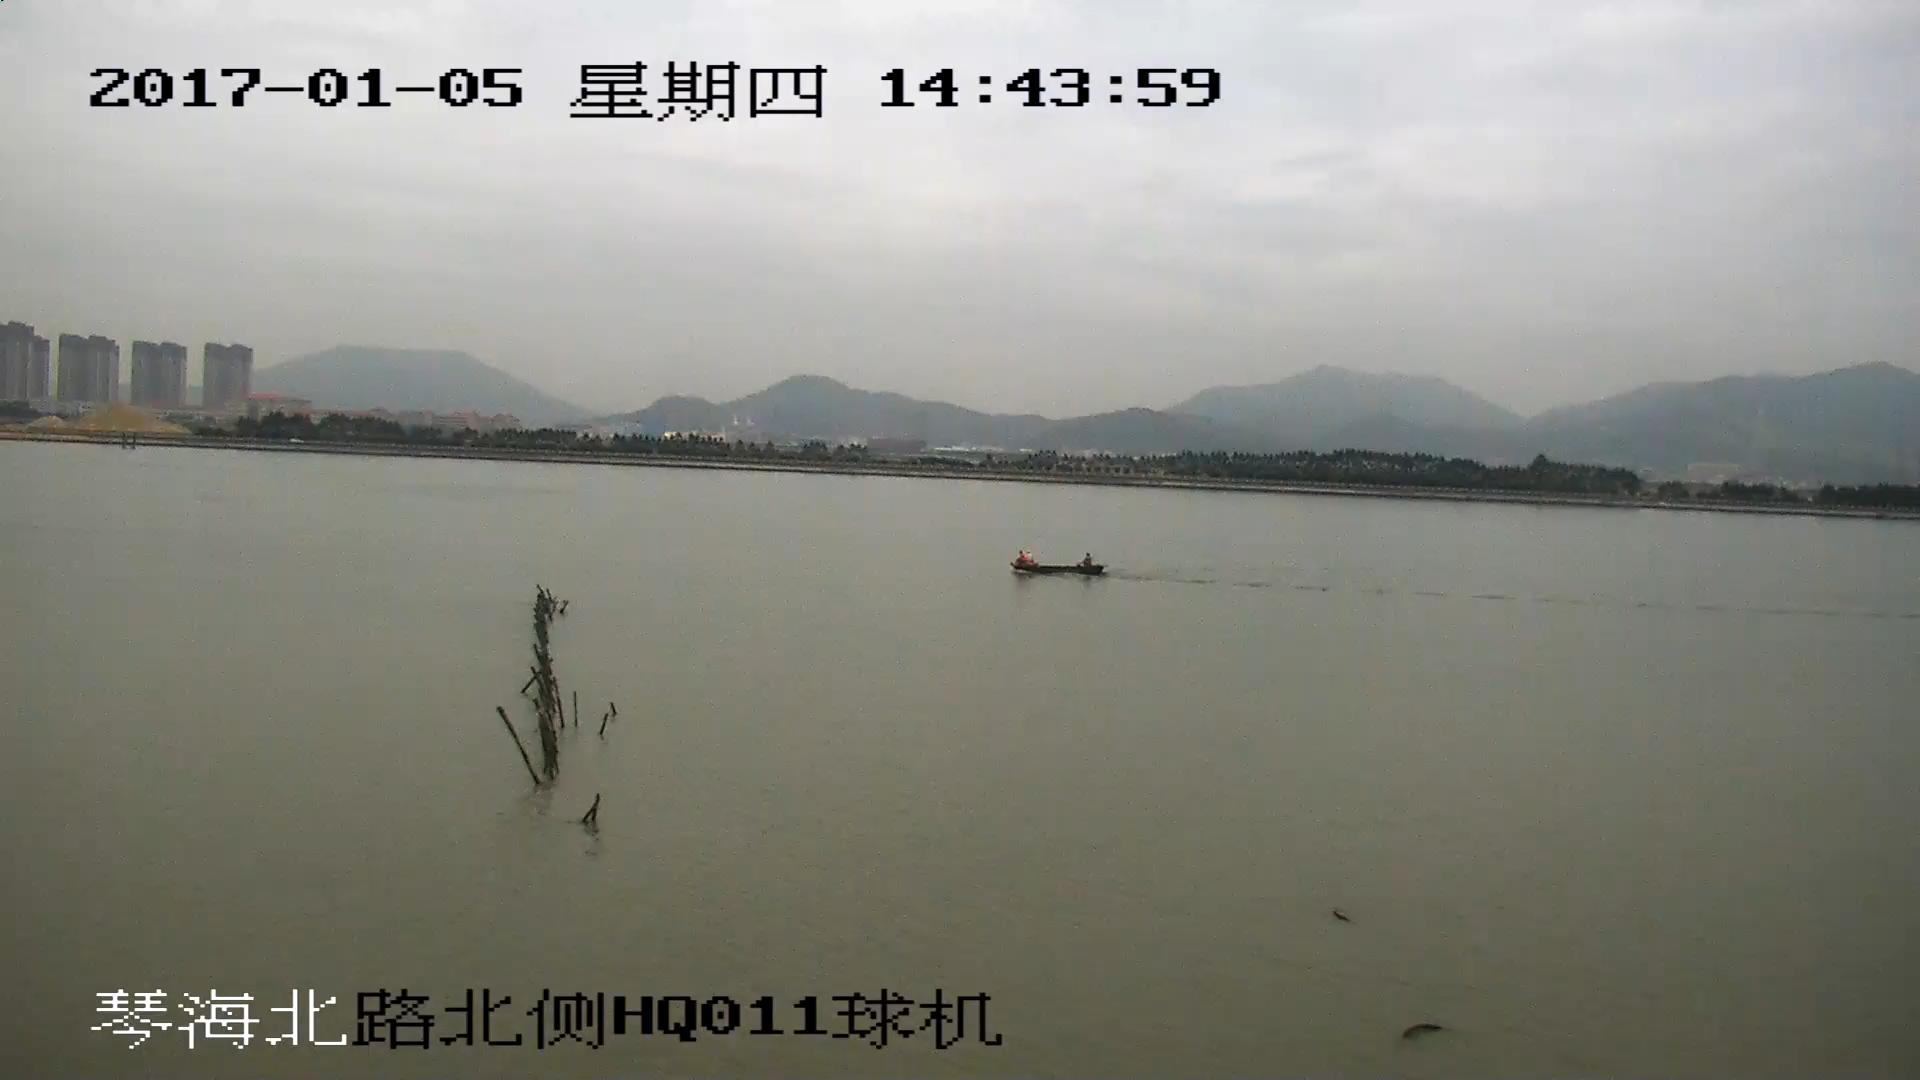fishing boat: (1008, 548, 1106, 579)
